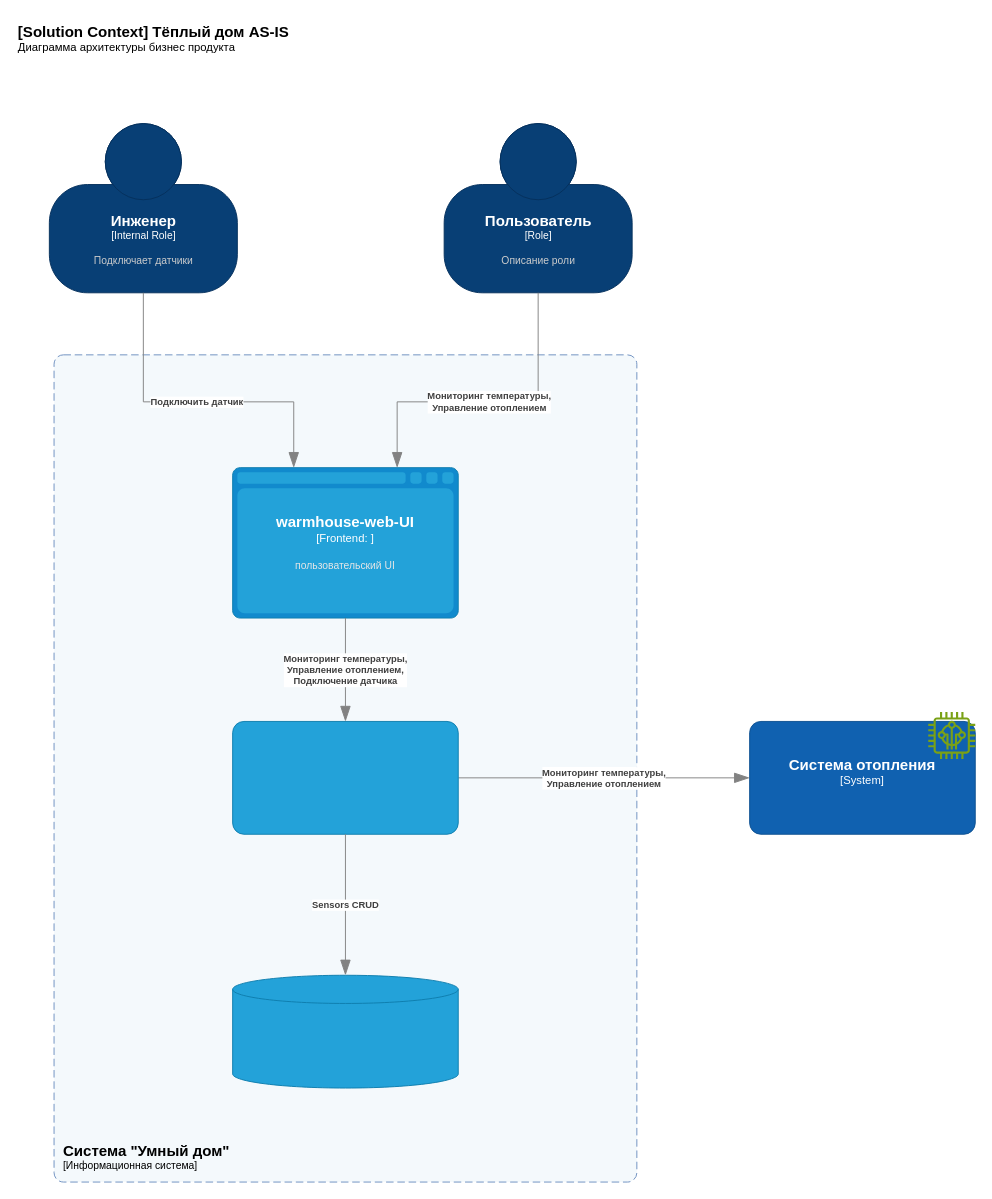
Some shapes in this 992 by 1199 pixel diagram are drawn without their labels. The centre of each missing label's shape, as x and y in pixels:
smarthome [Database: PostgreSQL] БД smarthome: (x=345, y=1031)
Монолит "Умный дом" [Container: Go] Управление отоплением Мониторинг температуры: (x=345, y=777)
